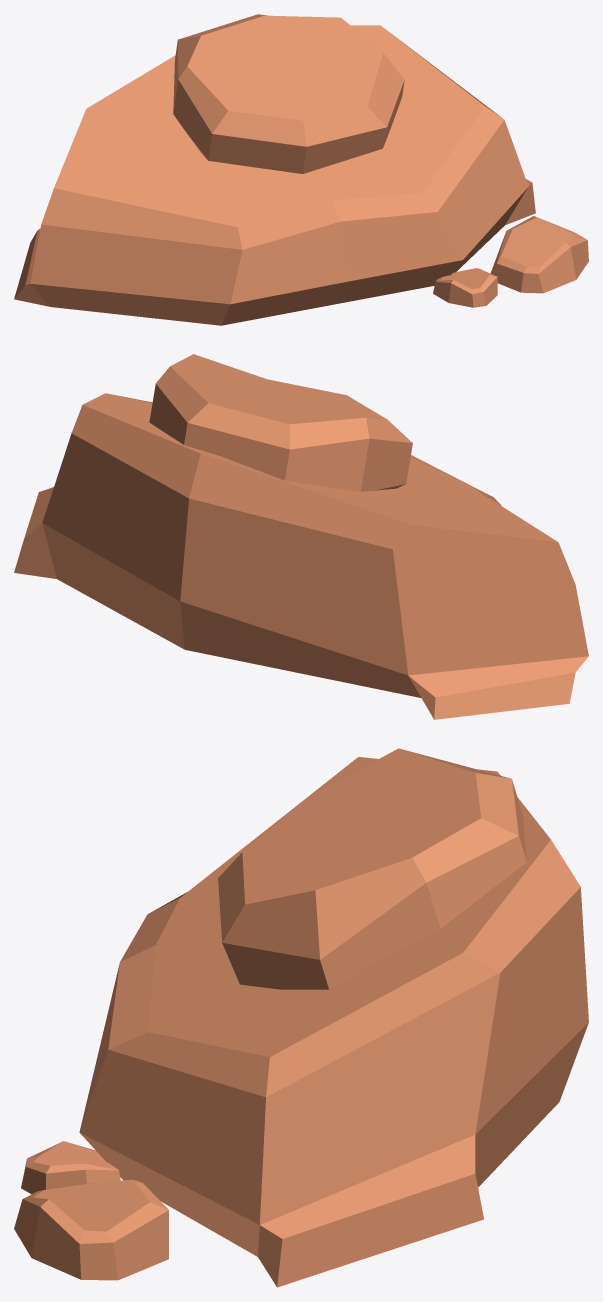
The model's file is Stone010.fbx.
3 renders of one model, top to bottom at view 1: azimuth 30°, elevation 25°; view 2: azimuth 150°, elevation 25°; view 3: azimuth 270°, elevation 25°, orthographic. The views are drawn at different scales.
Visible parts, largest first — view 1: Stone003, Stone002, Stone006, Stone005; view 2: Stone003, Stone002; view 3: Stone003, Stone002, Stone006, Stone005.
Part boxes in pixels (x1,y1,x2,y2): Stone003: (14, 25, 535, 325); Stone002: (173, 14, 404, 173); Stone006: (490, 216, 588, 293); Stone005: (433, 268, 497, 307); Stone003: (14, 393, 588, 719); Stone002: (149, 354, 412, 491); Stone003: (79, 757, 588, 1287); Stone002: (218, 748, 526, 989); Stone006: (14, 1179, 168, 1280); Stone005: (21, 1141, 120, 1194).
Size of the model in its own units: 3.01 by 1.22 by 2.
